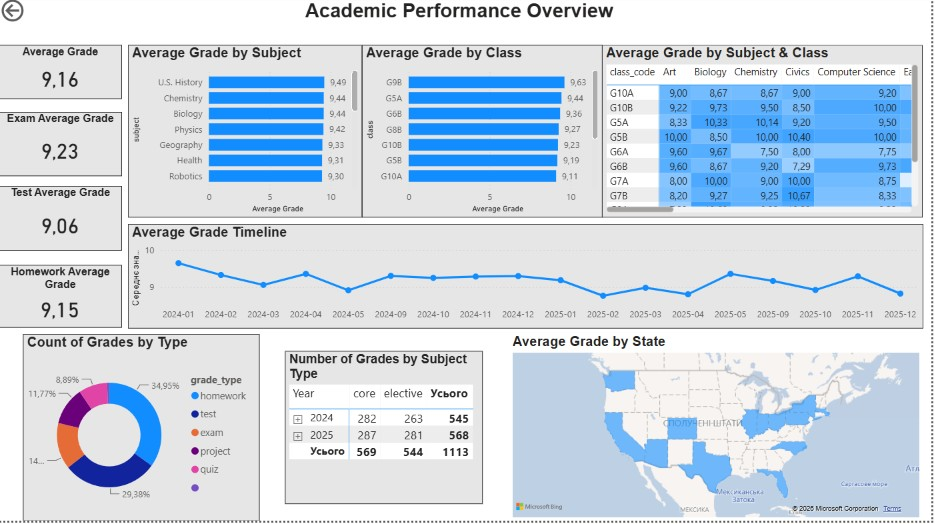

What the dashboard file says about the page in this screenshot:
{"tool":"powerbi","page":{"name":"Academic Performance Overview","canvas":[1280,720],"ordinal":0},"visuals":[{"type":"card","title":"Test Average Grade","fields":{"Values":["Avg(grades.grade_value)"]},"box":[0,261.2,169.8,88.6],"z":0},{"type":"actionButton","box":[0,0,100,40],"z":1000},{"type":"card","title":"Homework Average Grade","fields":{"Values":["Avg(grades.grade_value)"]},"box":[0,369.4,169.8,85.8],"z":2000},{"type":"card","title":"Average Grade","fields":{"Values":["Avg(grades.grade_value)"]},"box":[0,66.8,169.7,74.2],"z":3000},{"type":"card","title":"Exam Average Grade","fields":{"Values":["Avg(grades.grade_value)"]},"box":[0,158.6,169.8,87.7],"z":4000},{"type":"barChart","title":"Average Grade by Subject","fields":{"Category":["subjects.subject_name"],"Y":["Avg(grades.grade_value)"]},"box":[178.2,66.8,321.3,236.5],"z":5000},{"type":"barChart","title":"Average Grade by Class","fields":{"Y":["Avg(grades.grade_value)"],"Category":["classes.class_code"]},"box":[499.5,66.8,329.8,236.5],"z":6000},{"type":"lineChart","title":"Average Grade Timeline","fields":{"Category":["calendar.Year-Month"],"Y":["Avg(grades.grade_value)"]},"box":[178.2,312.8,1091.2,143.2],"z":7000},{"type":"pivotTable","title":"Average Grade by Subject & Class","fields":{"Rows":["classes.class_code"],"Columns":["subjects.subject_name"],"Values":["Avg(grades.grade_value)"]},"box":[829.3,66.8,440.1,236.5],"z":8000},{"type":"donutChart","title":"Count of Grades by Type","fields":{"Category":["grades.grade_type"],"Y":["CountNonNull(grades.grade_value)"]},"box":[33.9,463.4,324.5,256.6],"z":9000},{"type":"pivotTable","title":"Number of Grades by Subject Type","fields":{"Columns":["subjects.subject_type"],"Rows":["calendar.Year","calendar.Month"],"Values":["CountNonNull(grades.grade_id)"]},"box":[393.4,486.8,271.5,210],"z":10000},{"type":"filledMap","title":" Average Grade by State","fields":{"Category":["students.state"]},"box":[701,463.4,568.4,256.6],"z":11000},{"type":"textbox","box":[358.9,0,546.6,50.6],"z":12000}]}

Visuals, with their boxes in screenshot pixels (x1, y1, x2, y2), scaled from the page's 1280x720 canvas onto the 935x524 screenshot:
"Test Average Grade" card: (left=0, top=190, right=124, bottom=255)
actionButton: (left=0, top=0, right=73, bottom=29)
"Homework Average Grade" card: (left=0, top=269, right=124, bottom=331)
"Average Grade" card: (left=0, top=49, right=124, bottom=103)
"Exam Average Grade" card: (left=0, top=115, right=124, bottom=179)
"Average Grade by Subject" barChart: (left=130, top=49, right=365, bottom=221)
"Average Grade by Class" barChart: (left=365, top=49, right=606, bottom=221)
"Average Grade Timeline" lineChart: (left=130, top=228, right=927, bottom=332)
"Average Grade by Subject & Class" pivotTable: (left=606, top=49, right=927, bottom=221)
"Count of Grades by Type" donutChart: (left=25, top=337, right=262, bottom=523)
"Number of Grades by Subject Type" pivotTable: (left=287, top=354, right=486, bottom=507)
" Average Grade by State" filledMap: (left=512, top=337, right=927, bottom=523)
textbox: (left=262, top=0, right=661, bottom=37)
